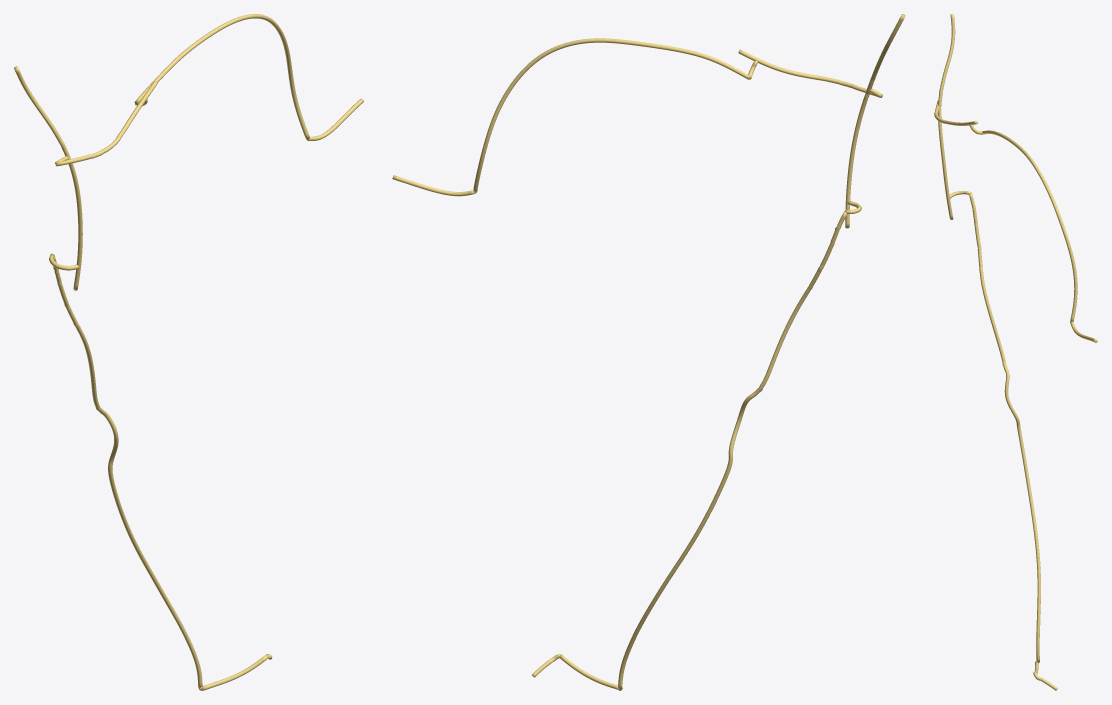
The model's file is left-colonic-plexus.glb.
The picture shows the model from 3 angles, left to right: view 1: azimuth 30°, elevation 25°; view 2: azimuth 150°, elevation 25°; view 3: azimuth 270°, elevation 25°; orthographic projection. The views are drawn at different scales.
Visible parts, largest first — view 1: VMRA_SIGMOID_AUTONOMIC_PATH_01, VMRA_LEFT_COLIC_AUTONOMIC_PATH_01, VMRA_IMA_PLEXUS_01; view 2: VMRA_SIGMOID_AUTONOMIC_PATH_01, VMRA_LEFT_COLIC_AUTONOMIC_PATH_01, VMRA_IMA_PLEXUS_01; view 3: VMRA_SIGMOID_AUTONOMIC_PATH_01, VMRA_LEFT_COLIC_AUTONOMIC_PATH_01, VMRA_IMA_PLEXUS_01.
Boxes of the visible parts, x1,y1,x2,y2 form: VMRA_SIGMOID_AUTONOMIC_PATH_01: [49, 253, 272, 690]; VMRA_LEFT_COLIC_AUTONOMIC_PATH_01: [55, 14, 363, 166]; VMRA_IMA_PLEXUS_01: [14, 66, 82, 290]; VMRA_SIGMOID_AUTONOMIC_PATH_01: [532, 201, 861, 690]; VMRA_LEFT_COLIC_AUTONOMIC_PATH_01: [392, 38, 882, 196]; VMRA_IMA_PLEXUS_01: [845, 14, 905, 228]; VMRA_SIGMOID_AUTONOMIC_PATH_01: [949, 191, 1057, 690]; VMRA_LEFT_COLIC_AUTONOMIC_PATH_01: [934, 100, 1097, 342]; VMRA_IMA_PLEXUS_01: [938, 14, 955, 219].
Size of the model in its own units: 0.0676 by 0.1056 by 0.0279.
